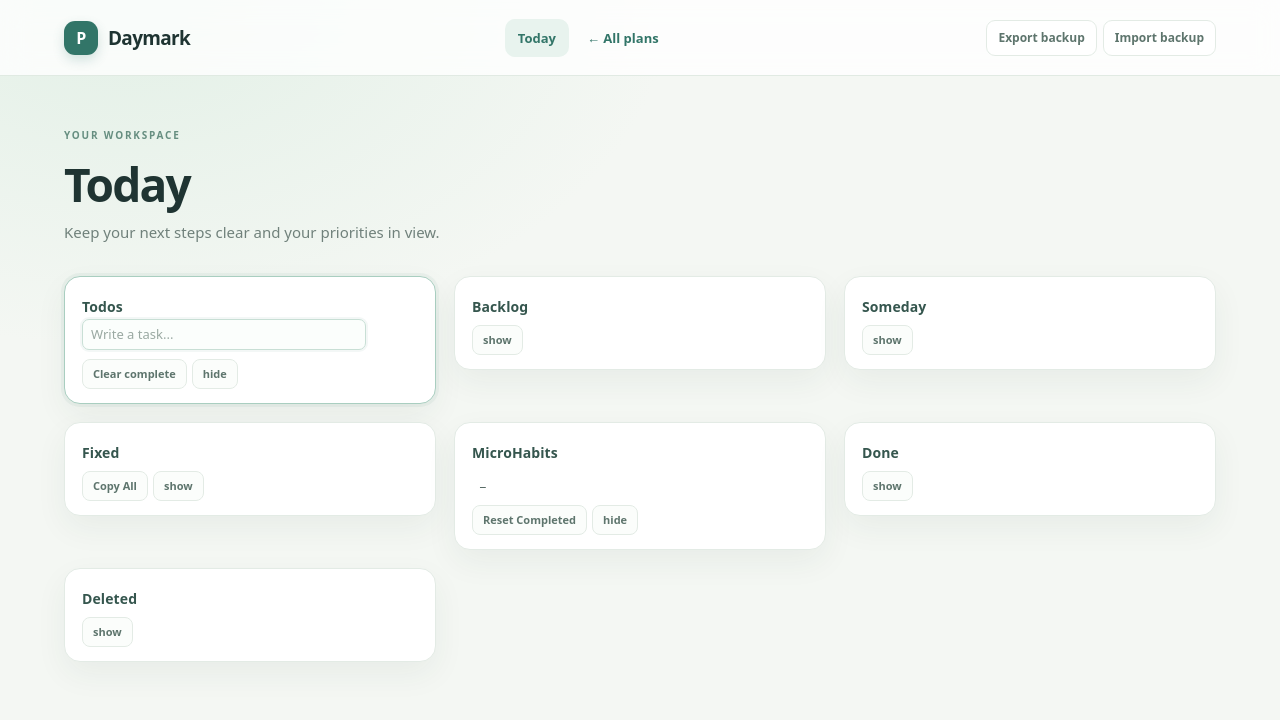
Test: App › downloads a backup file when export is requested
This screenshot has width=1280, height=720.
Click the button "Export backup": [1042, 38] box left=986, top=20, right=1097, bottom=56
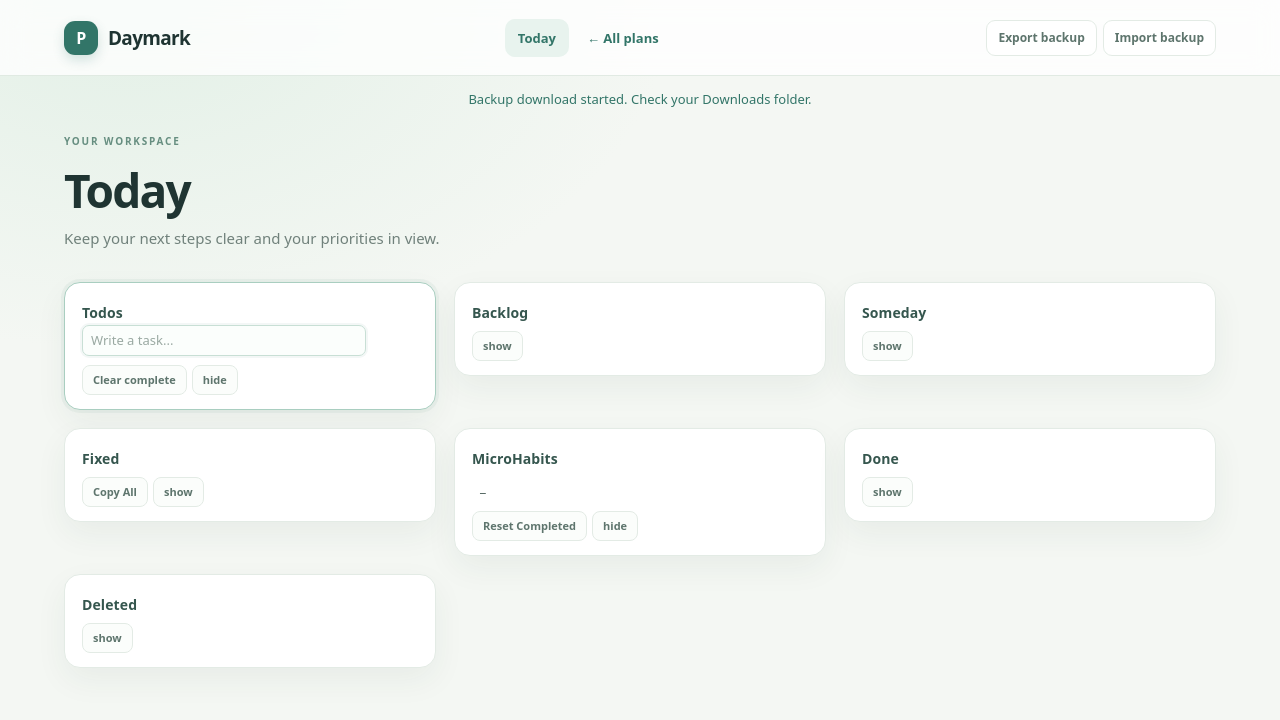
Expected: the message shows "Backup download started.", left=468, top=90, right=812, bottom=108
